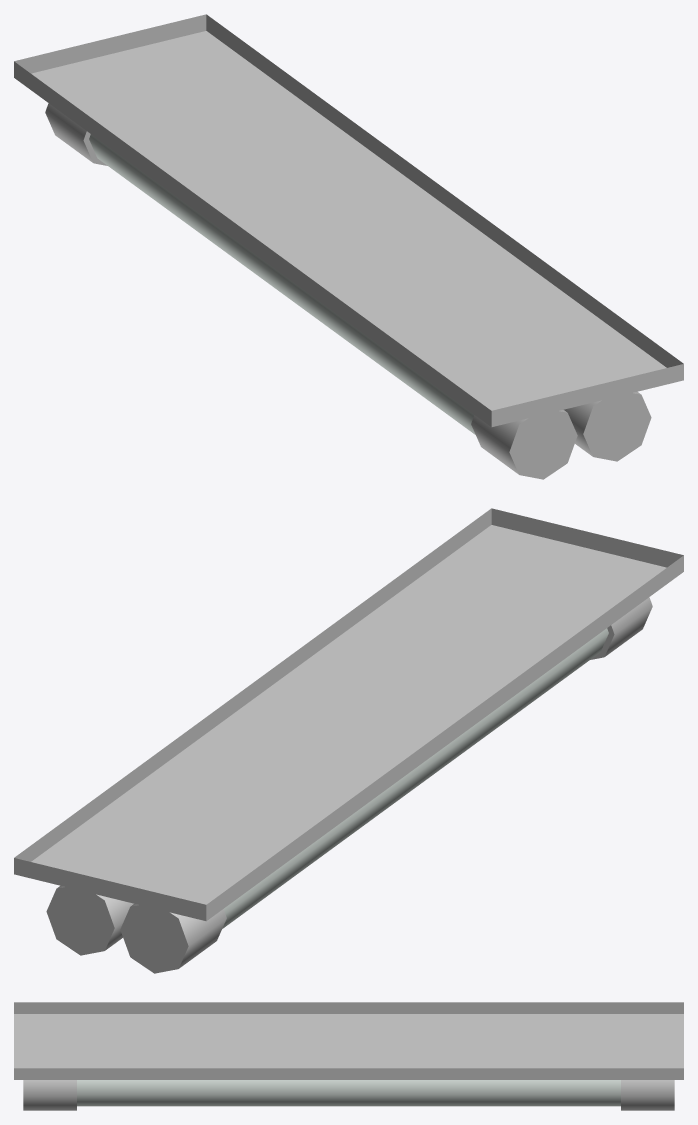
The model's file is SM_Light_01.fbx.
The picture shows the model from 3 angles, top to bottom: view 1: azimuth 30°, elevation 25°; view 2: azimuth 150°, elevation 25°; view 3: azimuth 270°, elevation 25°; orthographic projection. The views are drawn at different scales.
Parts seen in each view (by area): view 1: SM_Light_01; view 2: SM_Light_01; view 3: SM_Light_01.
Part boxes in pixels (x1,y1,x2,y2): SM_Light_01: (14, 14, 683, 479); SM_Light_01: (14, 508, 683, 973); SM_Light_01: (14, 1002, 683, 1110).
Size of the model in its own units: 29.48 by 12.89 by 127.
